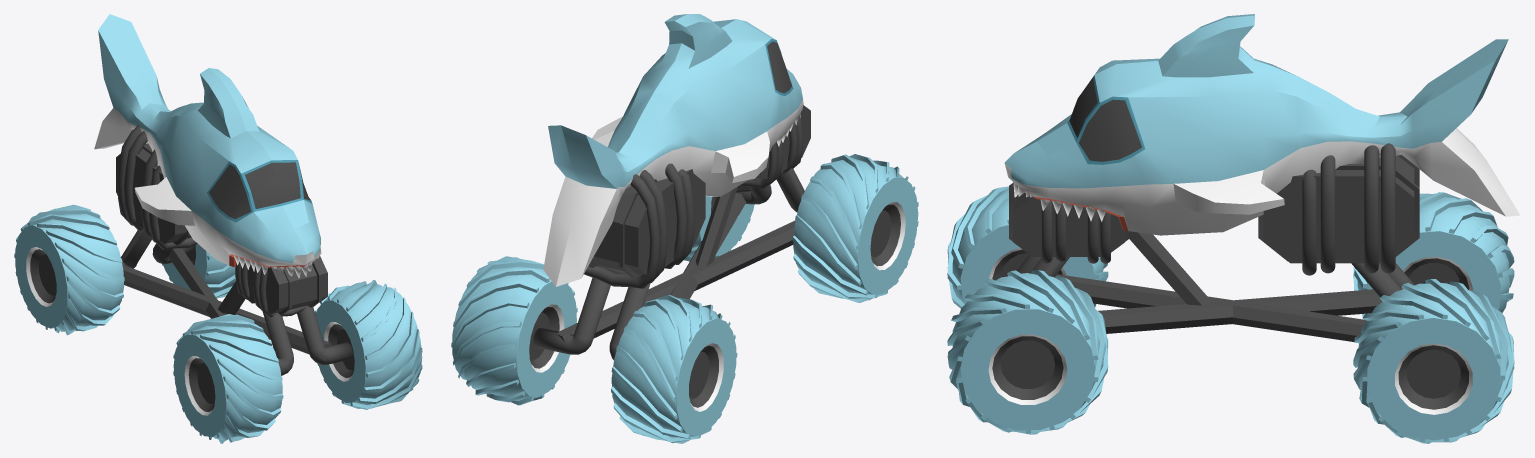
File: shark monster truck.fbx
3 renders of one model, left to right at view 1: azimuth 30°, elevation 25°; view 2: azimuth 150°, elevation 25°; view 3: azimuth 270°, elevation 25°, orthographic. The views are drawn at different scales.
Visible parts, largest first — view 1: body, wheel4, wheel, wheel5, pipe4, wheel6, pipe1, pipe6, pipe2, pipe, pipe5; view 2: body, wheel4, wheel, wheel6, pipe6, pipe3, pipe5, wheel5, pipe4, pipe, pipe2, pipe1; view 3: body, wheel6, wheel5, wheel4, wheel, pipe6, pipe4, pipe5, pipe3.
Boxes of the visible parts, x1,y1,x2,y2 form: body: (94,14,327,317); wheel4: (14,204,124,335); wheel: (173,314,283,443); wheel5: (315,280,422,409); pipe4: (122,264,331,354); wheel6: (162,244,235,298); pipe1: (297,305,352,364); pipe6: (168,248,227,318); pipe2: (263,312,293,375); pipe: (120,228,151,268); pipe5: (218,281,245,314); body: (543,14,810,288); wheel4: (611,295,737,443); wheel: (792,154,918,302); wheel6: (451,256,577,405); pipe6: (556,220,795,352); pipe3: (533,277,610,354); pipe5: (695,186,737,266); wheel5: (684,196,754,261); pipe4: (670,193,746,299); pipe: (609,283,650,360); pipe2: (776,168,804,212); pipe1: (715,184,771,204); body: (1004,14,1520,275); wheel6: (1353,279,1514,443); wheel5: (947,270,1108,434); wheel4: (1353,192,1514,319); wheel: (947,186,1108,308); pipe6: (1056,274,1366,341); pipe4: (1098,289,1382,333); pipe5: (1129,231,1211,305); pipe3: (1351,263,1401,297).
Size of the model in its own units: 54.57 by 78.13 by 108.
Materials: 1 (1 with a texture image).
